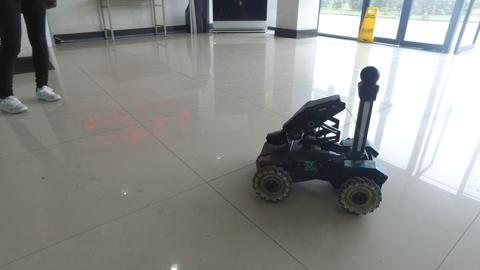chariot: (249, 64, 389, 215)
